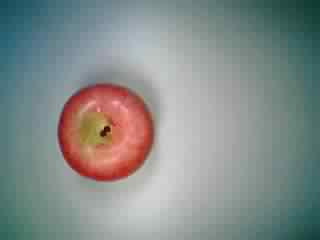apple: (56, 82, 160, 186)
